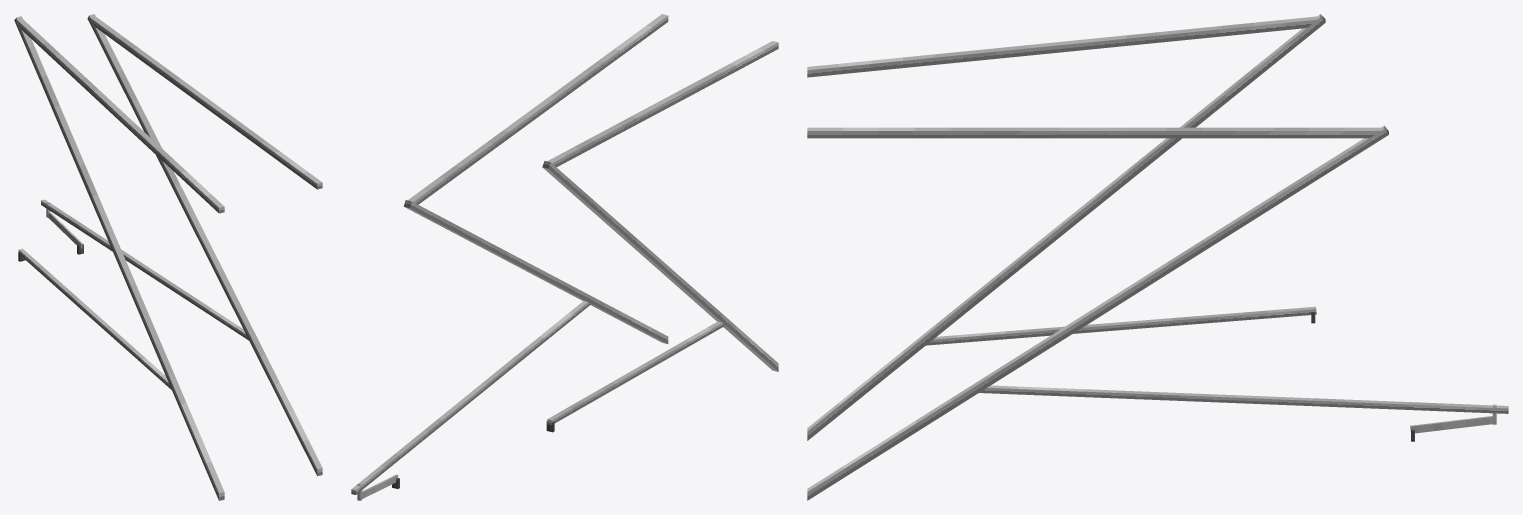
The model's file is cantilever_outer_16px.obj.
3 views of the same model, side by side, from view 1: azimuth 30°, elevation 25°; view 2: azimuth 150°, elevation 25°; view 3: azimuth 270°, elevation 25° (orthographic). The views are drawn at different scales.
Visible parts, largest first — view 1: 73941574-914d-4b0a-9ff2-5a46144355d3, 0485993e-1d15-447d-9c8b-6088adad3384, 3f001a93-cca6-4f5e-96b0-2fc2ea65e585, bea35dfa-8175-4389-95ef-045d9bdf0d55, e40a385e-3ffa-4027-9e50-efc395fb4398, 46c87cfd-08f5-46ce-8d55-218cb4f66ddd; view 2: 3f001a93-cca6-4f5e-96b0-2fc2ea65e585, 73941574-914d-4b0a-9ff2-5a46144355d3, bea35dfa-8175-4389-95ef-045d9bdf0d55, 0485993e-1d15-447d-9c8b-6088adad3384, e40a385e-3ffa-4027-9e50-efc395fb4398, 46c87cfd-08f5-46ce-8d55-218cb4f66ddd; view 3: 0485993e-1d15-447d-9c8b-6088adad3384, 73941574-914d-4b0a-9ff2-5a46144355d3, 3f001a93-cca6-4f5e-96b0-2fc2ea65e585, bea35dfa-8175-4389-95ef-045d9bdf0d55, e40a385e-3ffa-4027-9e50-efc395fb4398, 46c87cfd-08f5-46ce-8d55-218cb4f66ddd.
Part boxes in pixels (x1,y1,x2,y2): 73941574-914d-4b0a-9ff2-5a46144355d3: (14, 16, 224, 500); 0485993e-1d15-447d-9c8b-6088adad3384: (87, 14, 322, 476); 3f001a93-cca6-4f5e-96b0-2fc2ea65e585: (90, 16, 322, 189); bea35dfa-8175-4389-95ef-045d9bdf0d55: (17, 19, 224, 213); e40a385e-3ffa-4027-9e50-efc395fb4398: (41, 199, 248, 340); 46c87cfd-08f5-46ce-8d55-218cb4f66ddd: (18, 248, 171, 389); 3f001a93-cca6-4f5e-96b0-2fc2ea65e585: (408, 14, 668, 204); 73941574-914d-4b0a-9ff2-5a46144355d3: (542, 161, 778, 371); bea35dfa-8175-4389-95ef-045d9bdf0d55: (547, 41, 778, 167); 0485993e-1d15-447d-9c8b-6088adad3384: (403, 200, 668, 343); e40a385e-3ffa-4027-9e50-efc395fb4398: (351, 301, 590, 494); 46c87cfd-08f5-46ce-8d55-218cb4f66ddd: (547, 321, 725, 425); 0485993e-1d15-447d-9c8b-6088adad3384: (807, 125, 1388, 500); 73941574-914d-4b0a-9ff2-5a46144355d3: (807, 14, 1325, 440); 3f001a93-cca6-4f5e-96b0-2fc2ea65e585: (807, 127, 1381, 138); bea35dfa-8175-4389-95ef-045d9bdf0d55: (807, 16, 1317, 77); e40a385e-3ffa-4027-9e50-efc395fb4398: (979, 385, 1508, 413); 46c87cfd-08f5-46ce-8d55-218cb4f66ddd: (926, 306, 1316, 345).
Bounding box in the file's own units: 1.19 × 3.67 × 5.5.
